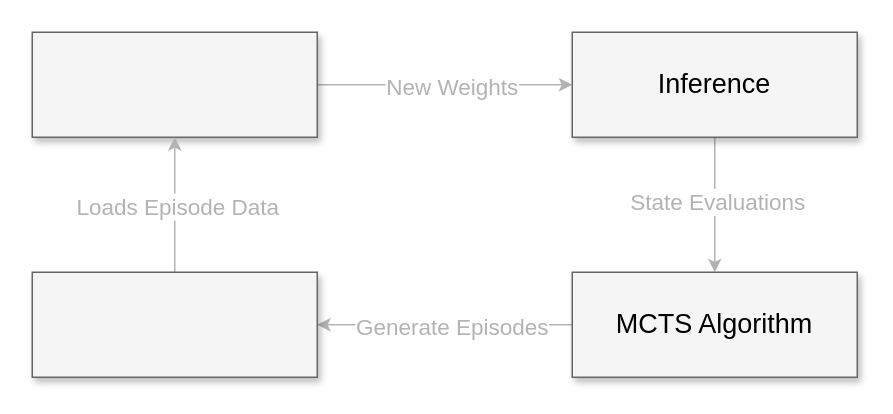
Image size: 893x414. Some labels were removed from this diagram. Here are the shapes that lost their labels. From the top down, the centre of each, then its label:
At point 175,86: "Training".
At point 175,326: "Episode Data".
